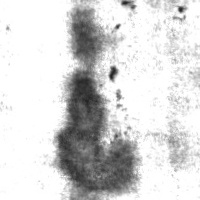patches: (55, 68, 137, 194), (69, 7, 109, 61)
